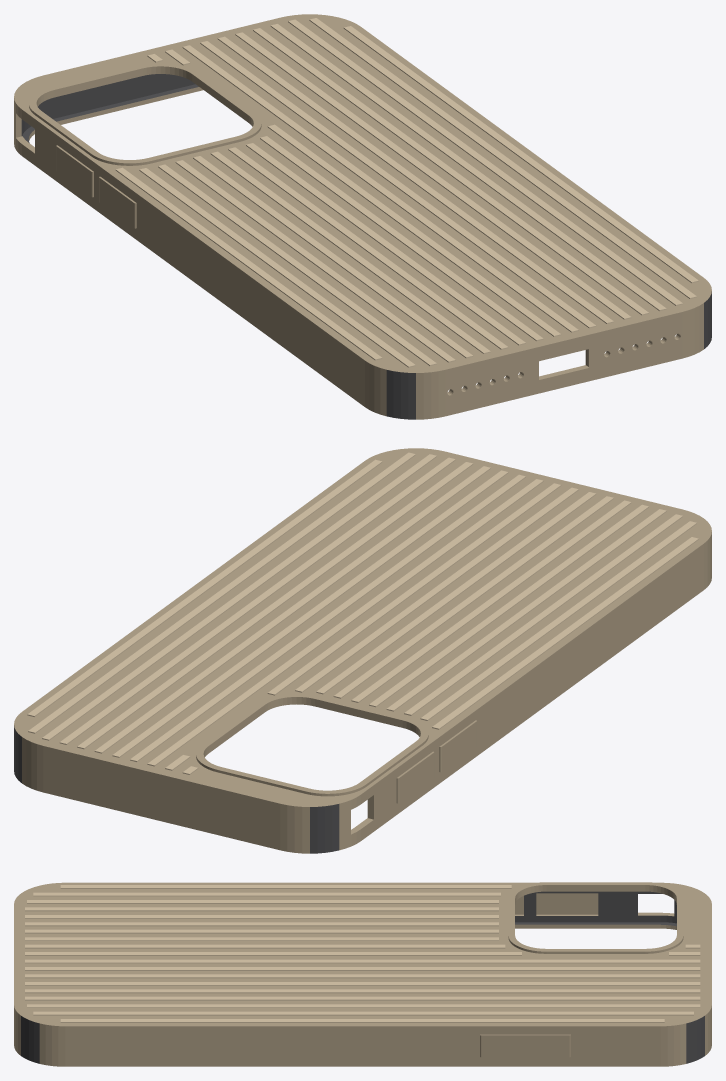
Rendered from kilif-pro-max-serit-kum.glb.
3 views of the same model, one above another, from view 1: azimuth 30°, elevation 25°; view 2: azimuth 150°, elevation 25°; view 3: azimuth 270°, elevation 25° (orthographic). The views are drawn at different scales.
Visible parts, largest first — view 1: Kilif; view 2: Kilif; view 3: Kilif.
Part boxes in pixels (box(x1,y1,x2,y2)): Kilif: box(14, 14, 711, 419); Kilif: box(14, 448, 711, 853); Kilif: box(14, 882, 711, 1066).
Size of the model in its own units: 0.0819 by 0.0112 by 0.1664.
